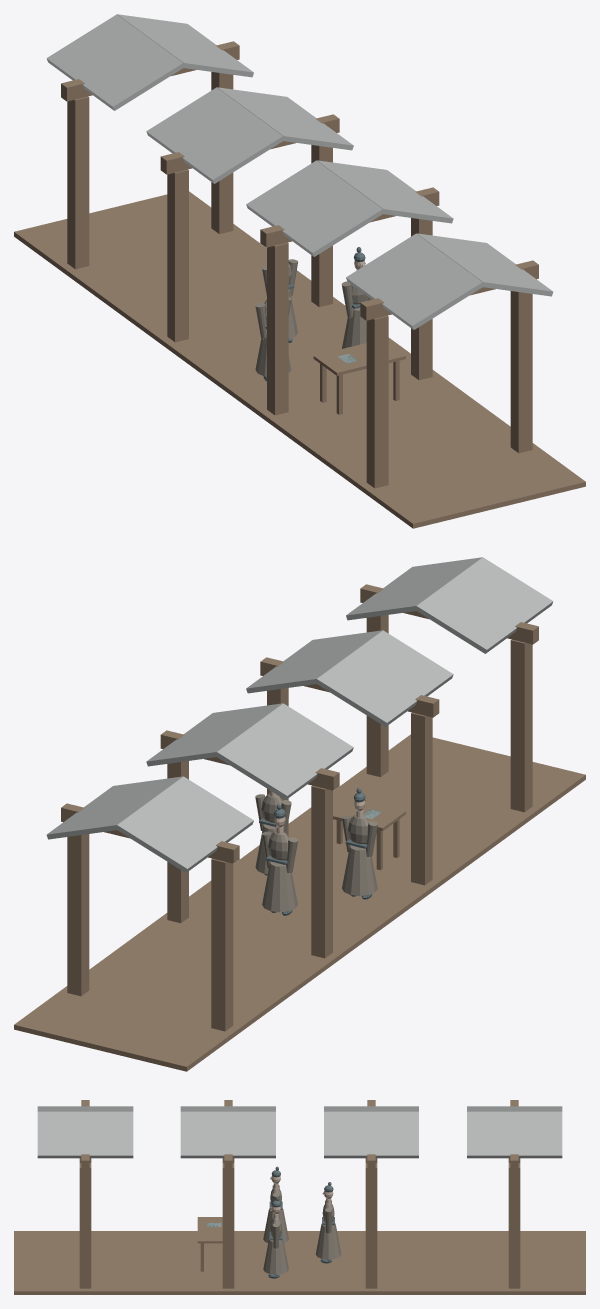
The model's file is EP02-SET04.glb.
The picture shows the model from 3 angles, top to bottom: view 1: azimuth 30°, elevation 25°; view 2: azimuth 150°, elevation 25°; view 3: azimuth 270°, elevation 25°; orthographic projection. The views are drawn at different scales.
Parts seen in each view (by area): view 1: floor (×4), roof_left (×4), column (×8), roof_right (×4), beam (×4), tabletop, robe_skirt; view 2: floor (×4), roof_left (×4), column (×7), roof_right (×4), beam (×4), robe_skirt (×2), tabletop; view 3: floor (×4), roof_right (×4), column (×4), roof_left (×4), robe_skirt (×3), tabletop.
Part boxes in pixels (box(x1,y1,x2,y2)): floor (×4): box(14, 191, 585, 528); roof_left (×4): box(46, 14, 483, 329); column (×8): box(67, 72, 532, 488); roof_right (×4): box(117, 14, 553, 296); beam (×4): box(61, 41, 538, 320); tabletop: box(313, 343, 405, 375); robe_skirt: box(342, 308, 366, 348); floor (×4): box(14, 734, 585, 1071); roof_left (×4): box(116, 557, 553, 872); column (×7): box(67, 615, 532, 1031); roof_right (×4): box(46, 557, 482, 839); beam (×4): box(61, 584, 538, 863); robe_skirt (×2): box(262, 845, 377, 912); tabletop: box(333, 794, 405, 831); floor (×4): box(14, 1231, 585, 1294); roof_right (×4): box(37, 1111, 562, 1158); column (×4): box(79, 1163, 520, 1288); roof_left (×4): box(37, 1106, 562, 1111); robe_skirt (×3): box(263, 1208, 341, 1274); tabletop: box(197, 1217, 222, 1243).
Size of the model in its own units: 3 by 3.54 by 12.
Materials: 8 (1 with a texture image).
